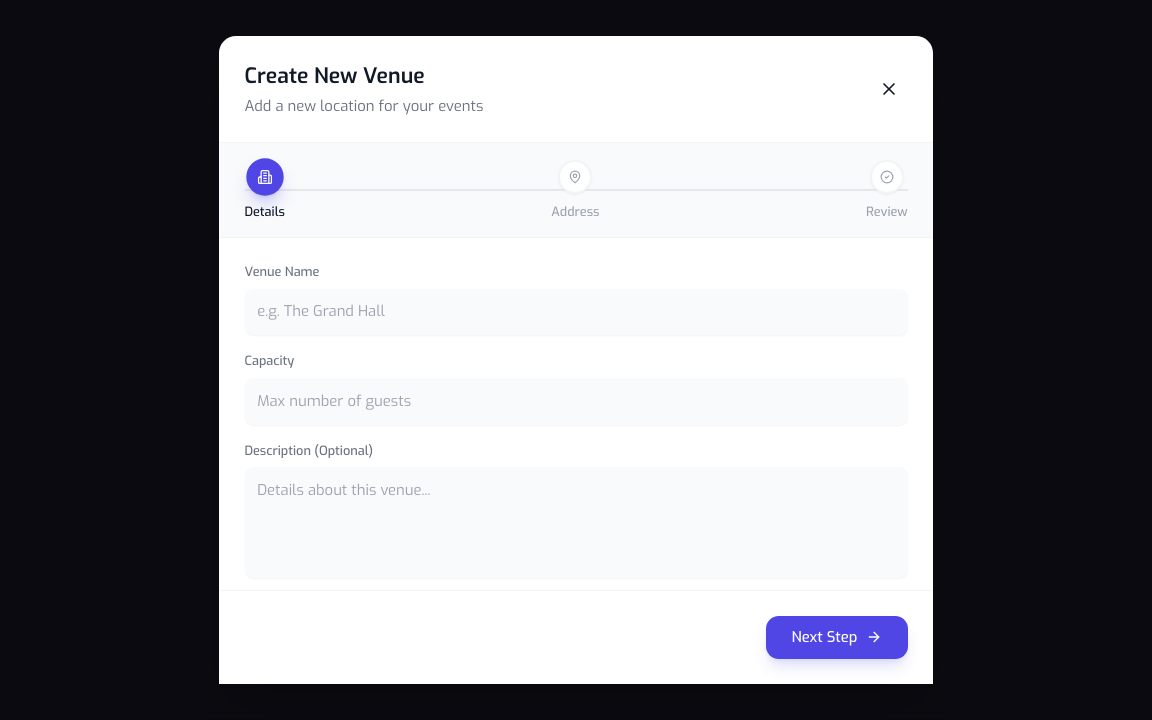
Test: venue wizard defaults › starts in Canada and America/St_Johns with an empty policy URL
Type "Signal Hall" into the field labelled "Venue Name" at (576, 312), box 244,289 -> 908,336
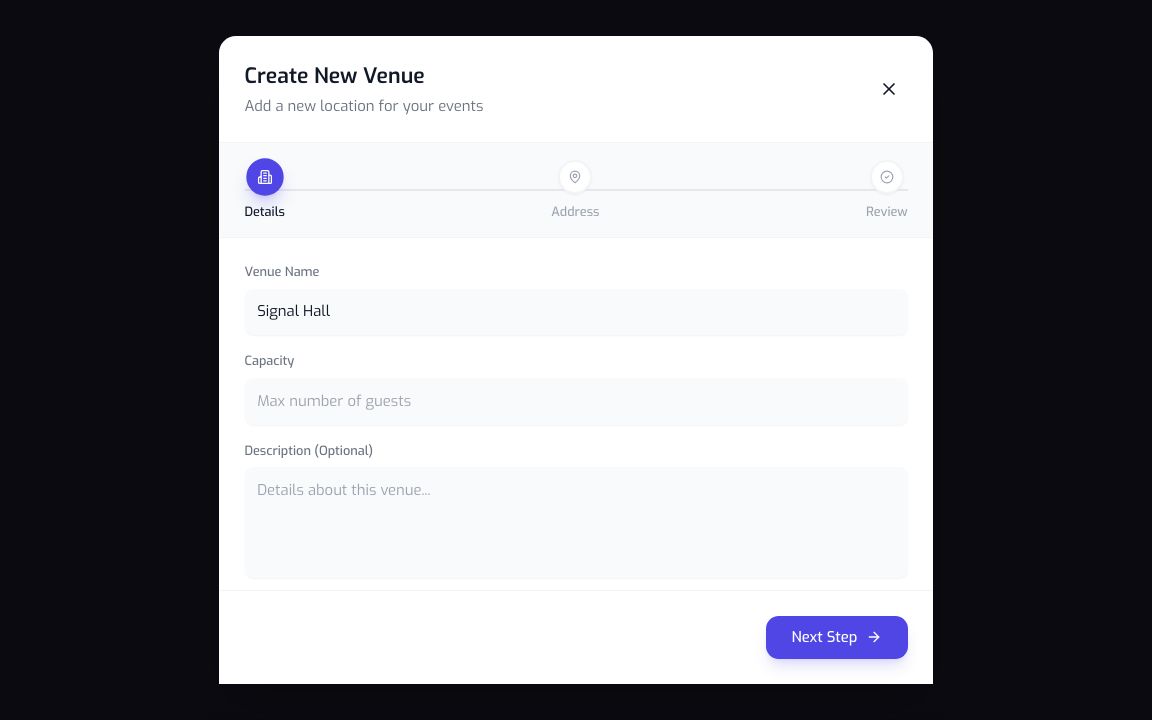
Type "400" into the number field labelled "Capacity" at (576, 401), box 244,378 -> 908,425
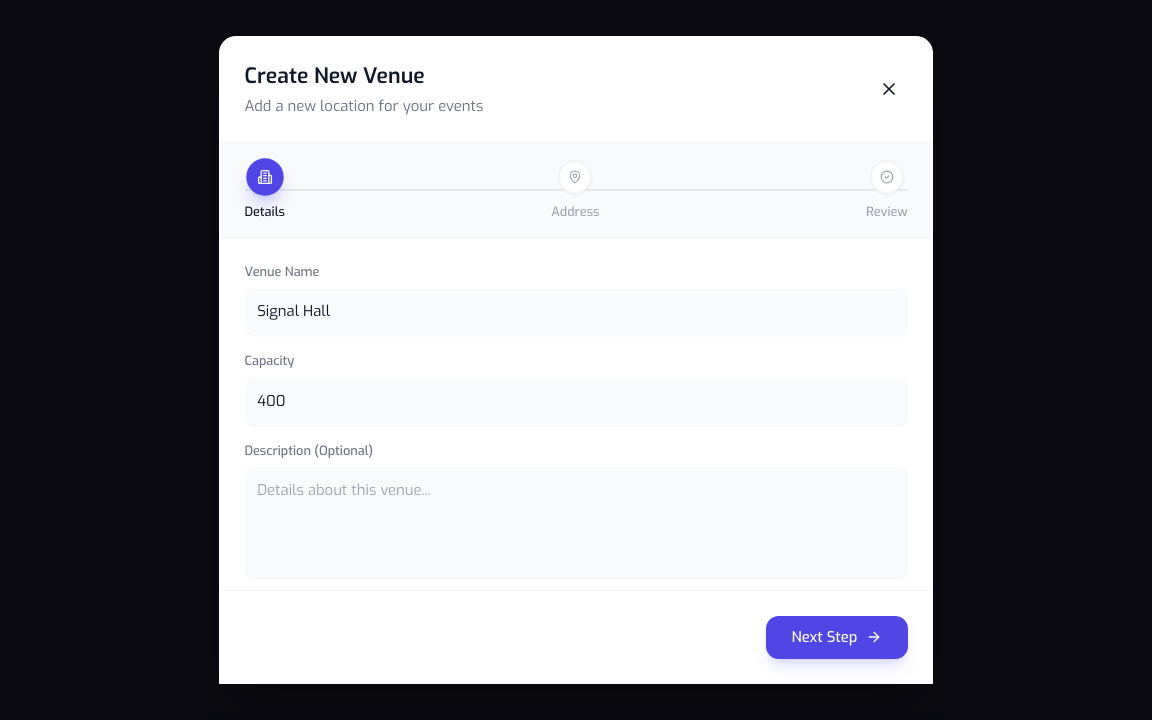
Click the button "Next Step" at (837, 637), box 766,616 -> 908,658
(page scrolled)
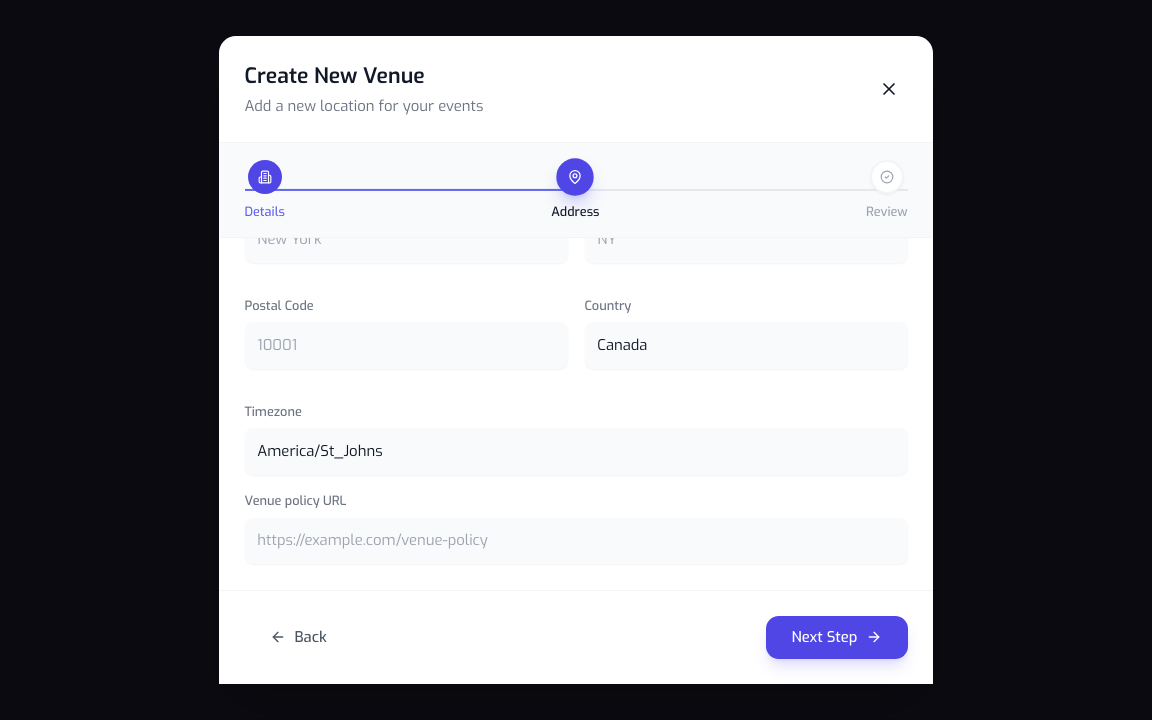
expect the field labelled "Country" holds "Canada": met, box 584,322 -> 908,369
expect the field labelled "Timezone" holds "America/St_Johns": met, box 244,428 -> 908,475
expect the field labelled "Venue policy URL" is empty: met, box 244,518 -> 908,564
